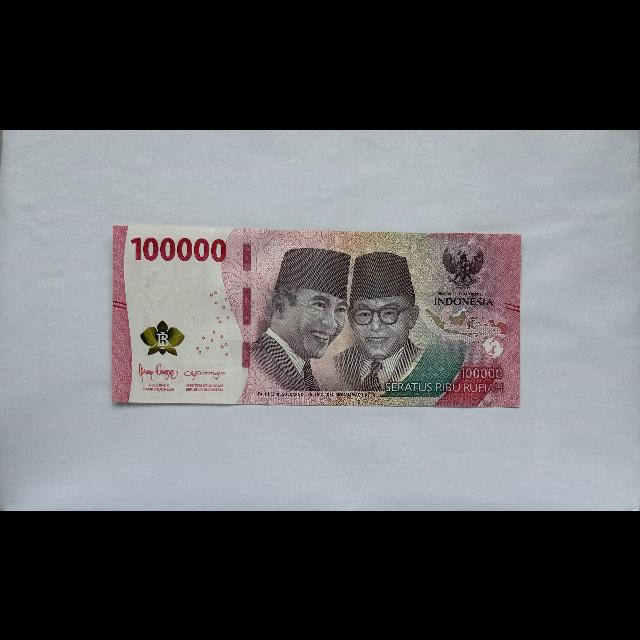Asli-100k: (111, 223, 522, 411)
Tinta-Asli-100k: (141, 318, 186, 356)
